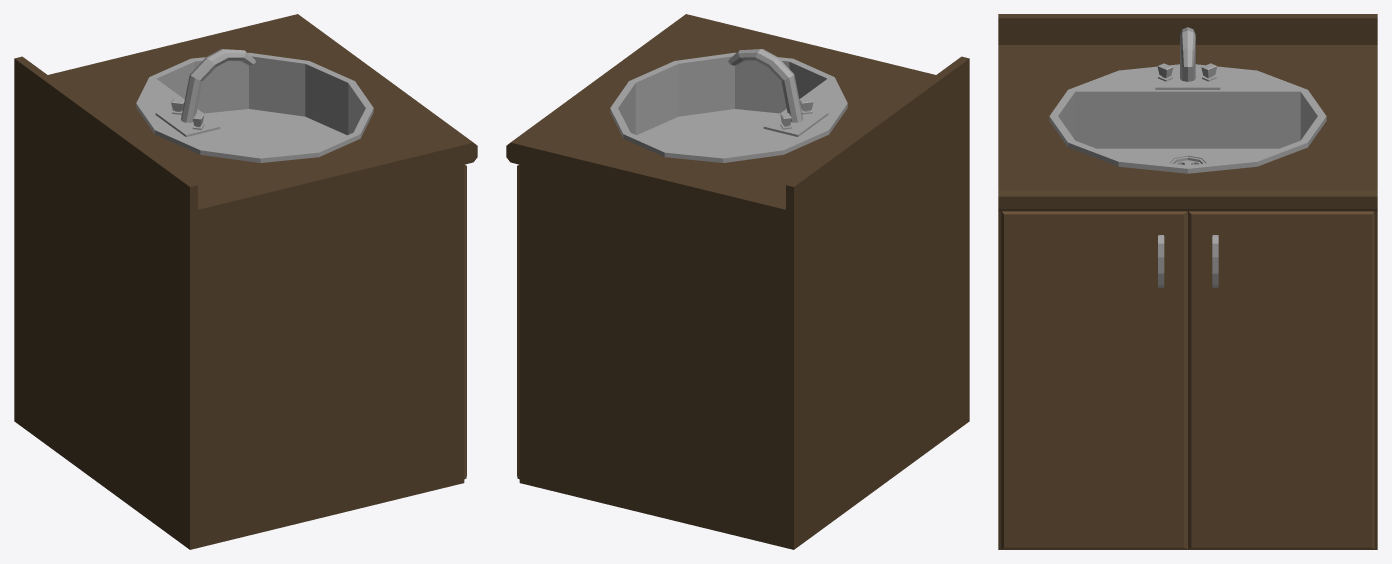
The model's file is KitchenCabinet1WithSink.fbx.
3 views of the same model, side by side, from view 1: azimuth 30°, elevation 25°; view 2: azimuth 150°, elevation 25°; view 3: azimuth 270°, elevation 25° (orthographic). The views are drawn at different scales.
Parts seen in each view (by area): view 1: KitchenCabinet1WithSink; view 2: KitchenCabinet1WithSink; view 3: KitchenCabinet1WithSink.
Boxes of the visible parts, x1,y1,x2,y2 form: KitchenCabinet1WithSink: (14,14,477,549); KitchenCabinet1WithSink: (506,14,969,549); KitchenCabinet1WithSink: (998,14,1377,549).
Size of the model in its own units: 91.94 by 124 by 96.71.
